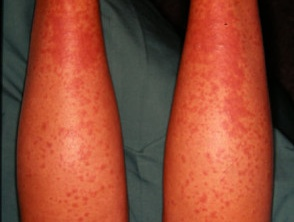SJS-TEN: (168, 0, 278, 222), (29, 0, 122, 222)
